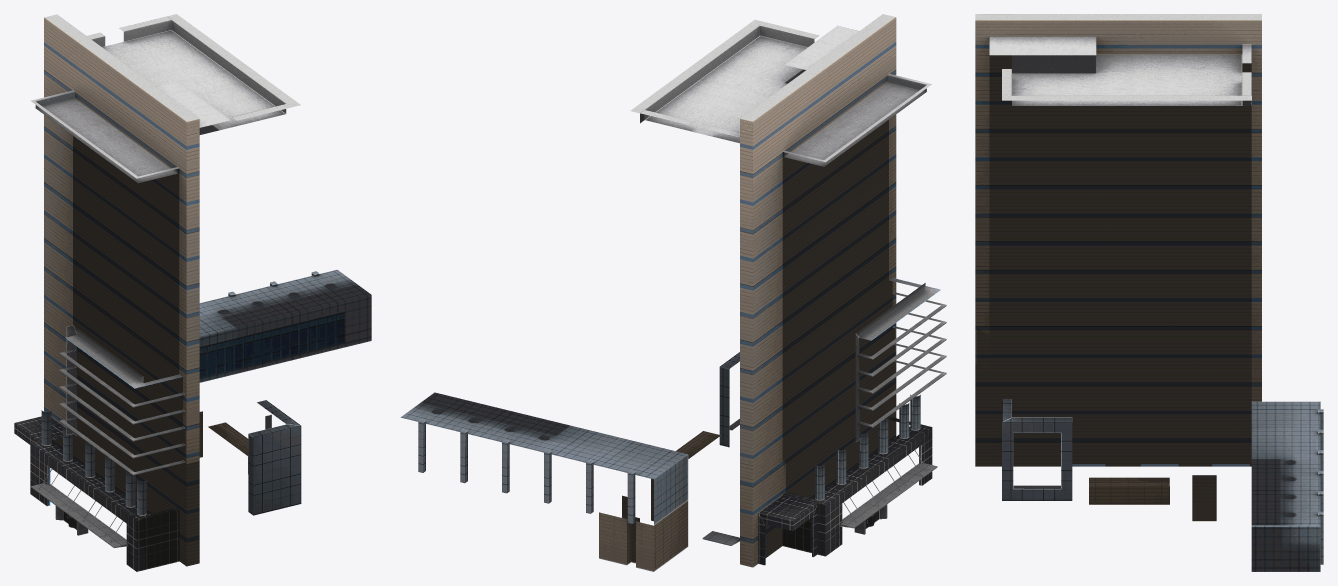
3 renders of one model, left to right at view 1: azimuth 30°, elevation 25°; view 2: azimuth 150°, elevation 25°; view 3: azimuth 270°, elevation 25°, orthographic.
Visible parts, largest first — view 1: 1010; view 2: 1010; view 3: 1010.
Boxes of the visible parts, x1,y1,x2,y2 form: 1010: [14, 14, 371, 571]; 1010: [400, 14, 946, 571]; 1010: [975, 14, 1323, 571].
Size of the model in its own units: 116 by 130 by 91.89.
1 material, 1 textured.
